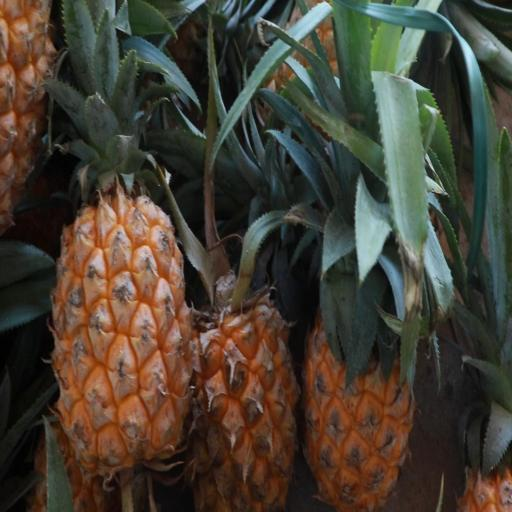Pineapple - v8 v1: (47, 121, 197, 482), (297, 187, 420, 512), (183, 248, 302, 508)
